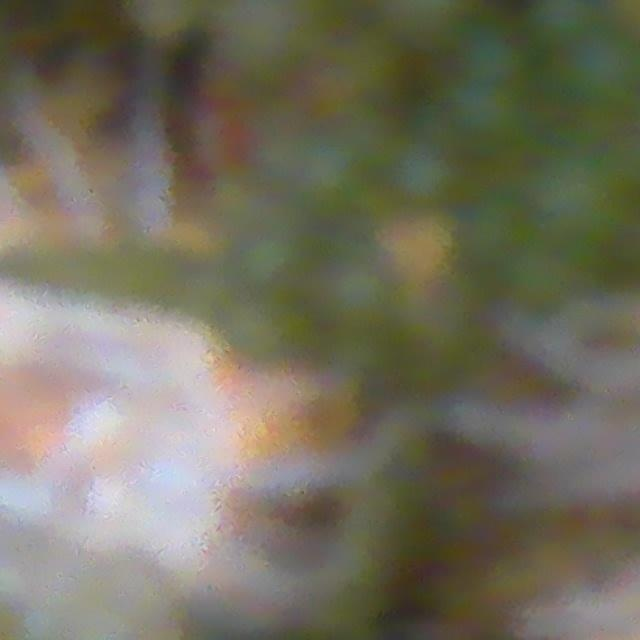SeaGrape: (218, 0, 325, 77), (387, 137, 464, 213), (321, 259, 399, 334), (528, 0, 603, 51)
